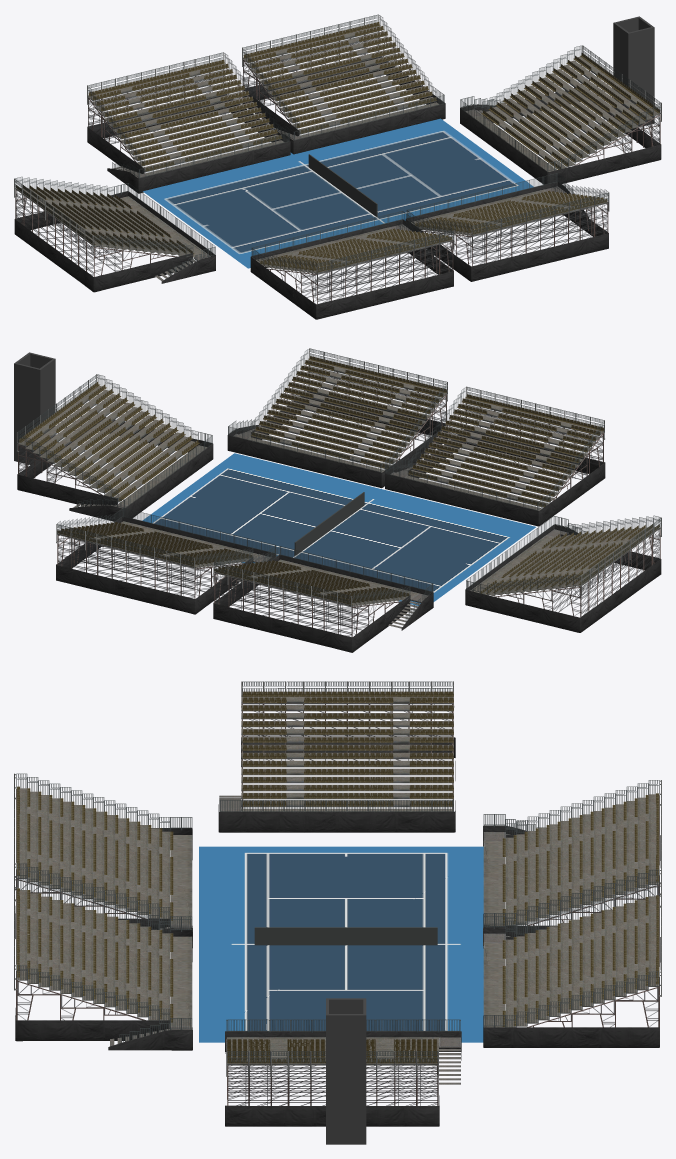
Rendered from court.glb.
3 views of the same model, one above another, from view 1: azimuth 30°, elevation 25°; view 2: azimuth 150°, elevation 25°; view 3: azimuth 270°, elevation 25° (orthographic). The views are drawn at different scales.
Parts seen in each view (by area): view 1: Plane, Node_013_mel_grandstand_genericmedium_a_physics_!bk, Node_013_mel_grandstand_genericmedium_a_physics_!bk.001, Node_013_mel_grandstand_genericmedium_a_physics_!bk.002, Node_013_mel_grandstand_genericmedium_a_physics_!bk.005, Node_013_mel_grandstand_genericmedium_a_physics_!bk.003, Node_013_mel_grandstand_genericmedium_a_physics_!bk.004, Camera Tower, net; view 2: Plane, Node_013_mel_grandstand_genericmedium_a_physics_!bk.003, Node_013_mel_grandstand_genericmedium_a_physics_!bk.004, Node_013_mel_grandstand_genericmedium_a_physics_!bk.002, Node_013_mel_grandstand_genericmedium_a_physics_!bk, Node_013_mel_grandstand_genericmedium_a_physics_!bk.005, Node_013_mel_grandstand_genericmedium_a_physics_!bk.001, Camera Tower, net; view 3: Plane, Node_013_mel_grandstand_genericmedium_a_physics_!bk.005, Node_013_mel_grandstand_genericmedium_a_physics_!bk.004, Node_013_mel_grandstand_genericmedium_a_physics_!bk.001, Node_013_mel_grandstand_genericmedium_a_physics_!bk.003, Node_013_mel_grandstand_genericmedium_a_physics_!bk, Node_013_mel_grandstand_genericmedium_a_physics_!bk.002, Camera Tower, net.
Part boxes in pixels (<box>): Plane: <box>143,118,533,268</box>; Node_013_mel_grandstand_genericmedium_a_physics_!bk: <box>87,52,290,193</box>; Node_013_mel_grandstand_genericmedium_a_physics_!bk.001: <box>242,14,445,154</box>; Node_013_mel_grandstand_genericmedium_a_physics_!bk.002: <box>460,45,661,184</box>; Node_013_mel_grandstand_genericmedium_a_physics_!bk.005: <box>14,176,215,292</box>; Node_013_mel_grandstand_genericmedium_a_physics_!bk.003: <box>250,211,454,319</box>; Node_013_mel_grandstand_genericmedium_a_physics_!bk.004: <box>405,173,609,281</box>; Camera Tower: <box>613,16,654,126</box>; net: <box>308,154,377,216</box>; Plane: <box>142,453,535,605</box>; Node_013_mel_grandstand_genericmedium_a_physics_!bk.003: <box>385,386,605,526</box>; Node_013_mel_grandstand_genericmedium_a_physics_!bk.004: <box>227,348,448,488</box>; Node_013_mel_grandstand_genericmedium_a_physics_!bk.002: <box>16,374,213,521</box>; Node_013_mel_grandstand_genericmedium_a_physics_!bk: <box>213,546,433,652</box>; Node_013_mel_grandstand_genericmedium_a_physics_!bk.005: <box>465,515,661,632</box>; Node_013_mel_grandstand_genericmedium_a_physics_!bk.001: <box>56,508,276,614</box>; Camera Tower: <box>14,352,55,464</box>; net: <box>294,492,364,555</box>; Plane: <box>199,846,483,1042</box>; Node_013_mel_grandstand_genericmedium_a_physics_!bk.005: <box>218,681,455,832</box>; Node_013_mel_grandstand_genericmedium_a_physics_!bk.004: <box>14,875,192,1050</box>; Node_013_mel_grandstand_genericmedium_a_physics_!bk.001: <box>483,881,661,1047</box>; Node_013_mel_grandstand_genericmedium_a_physics_!bk.003: <box>14,773,192,947</box>; Node_013_mel_grandstand_genericmedium_a_physics_!bk: <box>483,780,661,932</box>; Node_013_mel_grandstand_genericmedium_a_physics_!bk.002: <box>225,1019,461,1126</box>; Camera Tower: <box>326,998,366,1144</box>; net: <box>254,927,437,945</box>.
Size of the model in its own units: 92.12 by 14.49 by 64.74.
21 materials, 19 textured.
